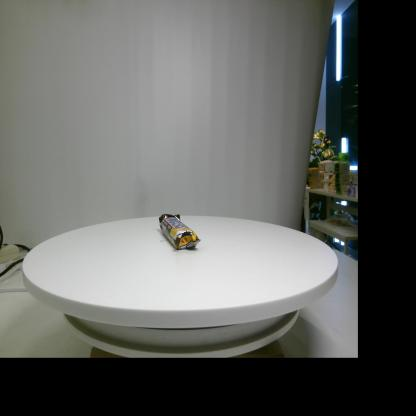Chocolate: (158, 214, 200, 250)
